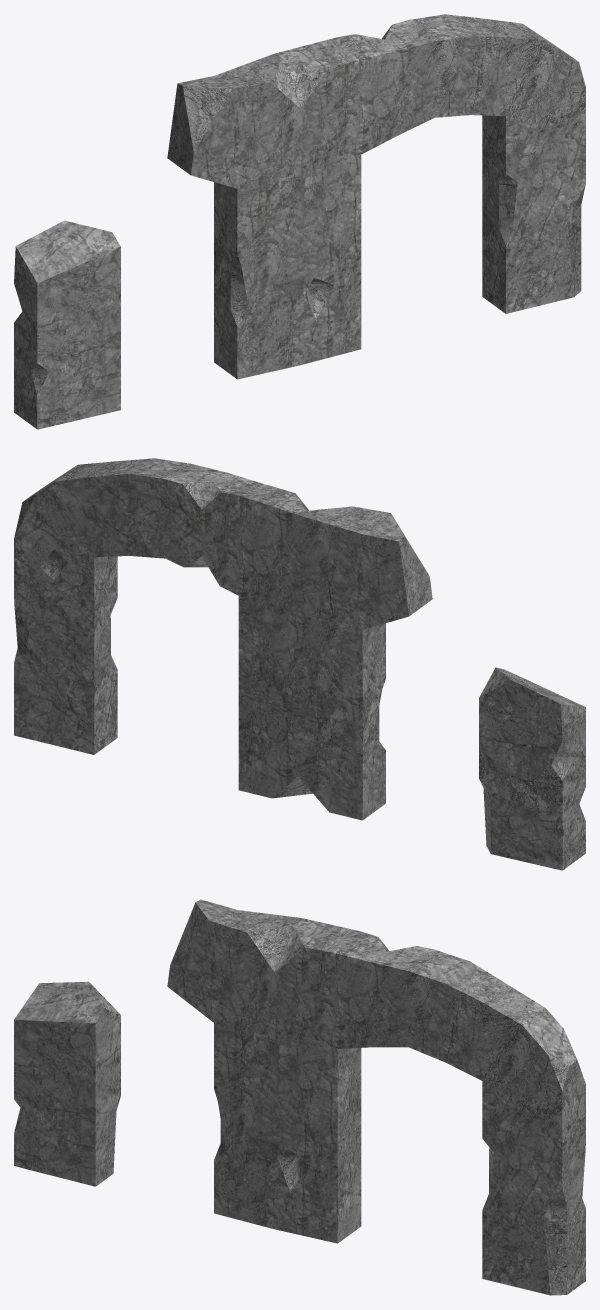
File: materials_3_wall_2.fbx
3 views of the same model, one above another, from view 1: azimuth 30°, elevation 25°; view 2: azimuth 150°, elevation 25°; view 3: azimuth 330°, elevation 25° (orthographic).
Visible parts, largest first — view 1: materials_3_wall_2; view 2: materials_3_wall_2; view 3: materials_3_wall_2.
Part boxes in pixels (x1,y1,x2,y2): materials_3_wall_2: [14, 14, 585, 429]; materials_3_wall_2: [14, 458, 585, 870]; materials_3_wall_2: [14, 899, 585, 1295].
Size of the model in its own units: 600 by 310 by 50.62.
